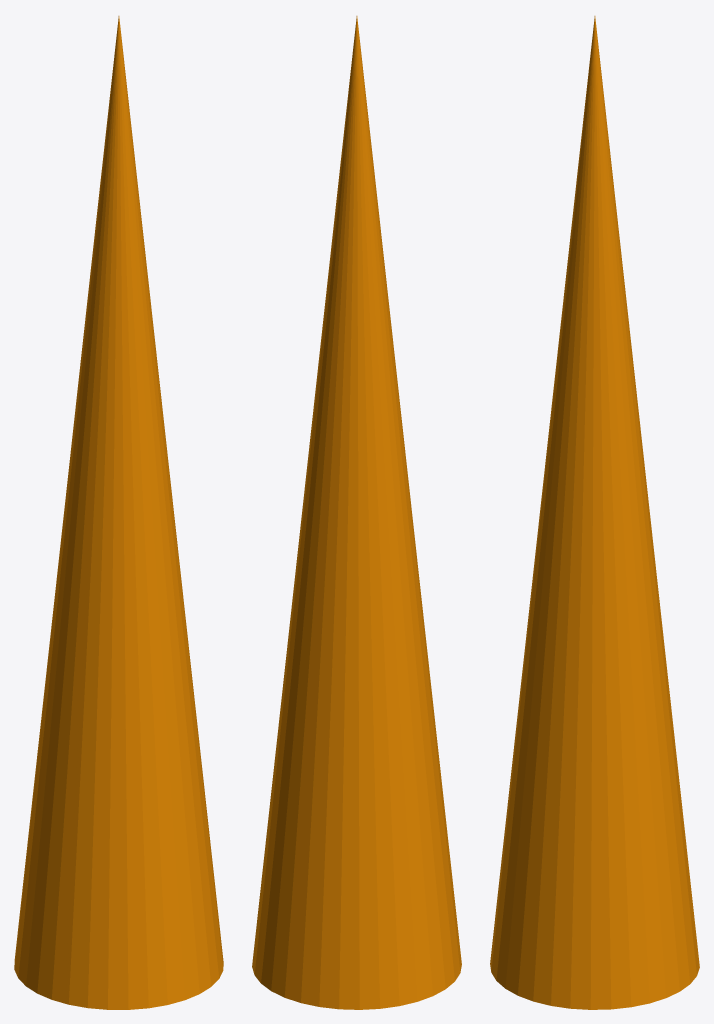
Rendered from @border.014.obj.
3 renders of one model, left to right at view 1: azimuth 30°, elevation 25°; view 2: azimuth 150°, elevation 25°; view 3: azimuth 270°, elevation 25°, orthographic.
Visible parts, largest first — view 1: @border.015; view 2: @border.015; view 3: @border.015.
Boxes of the visible parts, box(x1,y1,x2,y2) form: @border.015: box(14, 16, 223, 1009); @border.015: box(252, 16, 461, 1009); @border.015: box(490, 16, 699, 1009).
Bounding box in the file's own units: 39.97 × 200 × 39.97.
1 material, 1 textured.
